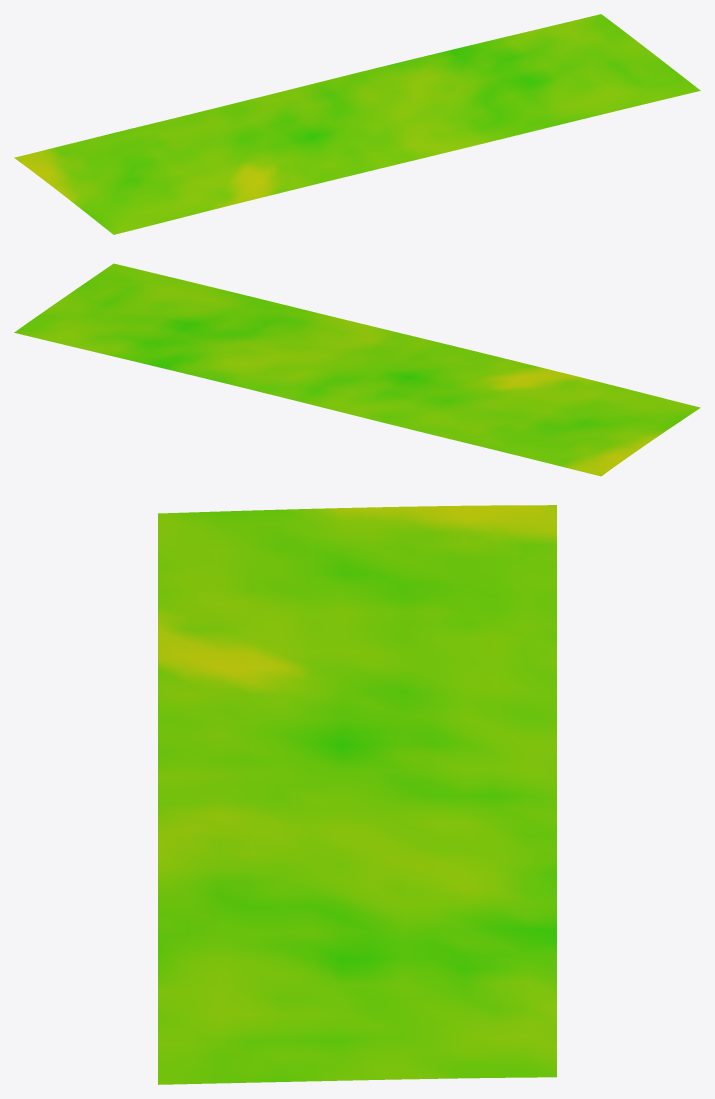
Rendered from terrain_1_4.glb.
3 views of the same model, one above another, from view 1: azimuth 30°, elevation 25°; view 2: azimuth 150°, elevation 25°; view 3: azimuth 270°, elevation 25° (orthographic). The views are drawn at different scales.
Parts seen in each view (by area): view 1: terrain_1_4; view 2: terrain_1_4; view 3: terrain_1_4.
Part boxes in pixels (left/top/right/bottom): terrain_1_4: left=14, top=14, right=700, bottom=234; terrain_1_4: left=14, top=263, right=700, bottom=476; terrain_1_4: left=158, top=505, right=556, bottom=1084.
Size of the model in its own units: 85 by 0.7622 by 25.
